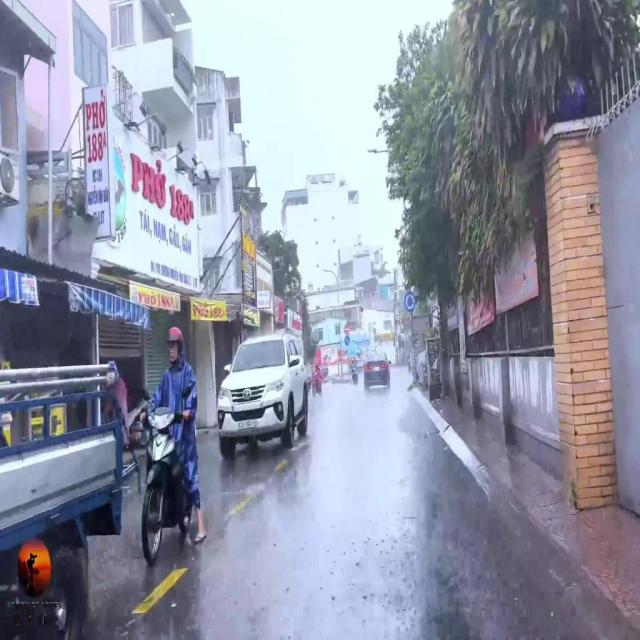cam_xe_di_nguoc_chieu: (344, 323, 350, 336)
huong_phai_di_vuot_chuong_ngai_vat_phai: (344, 336, 350, 346)
noi_giao_nhau_chay_theo_vong: (404, 291, 416, 314)
